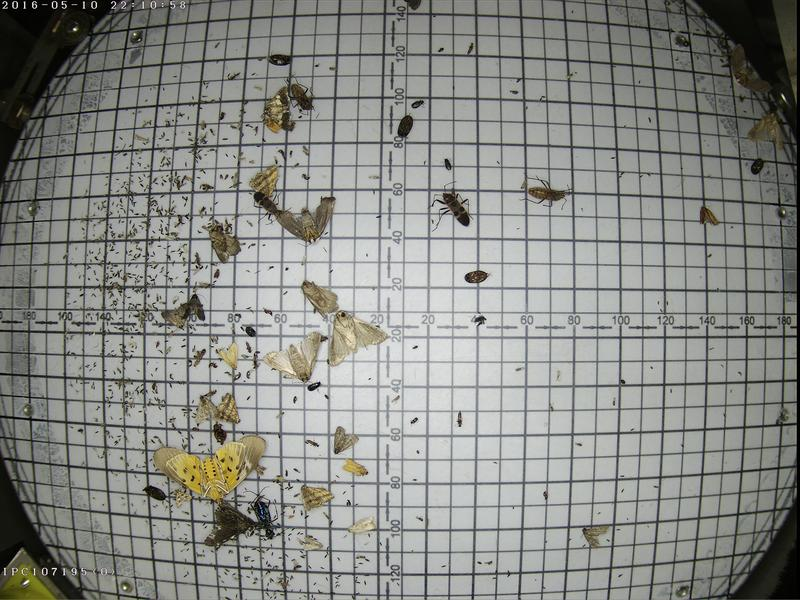Spodoptera litura: (262, 330, 322, 381)
